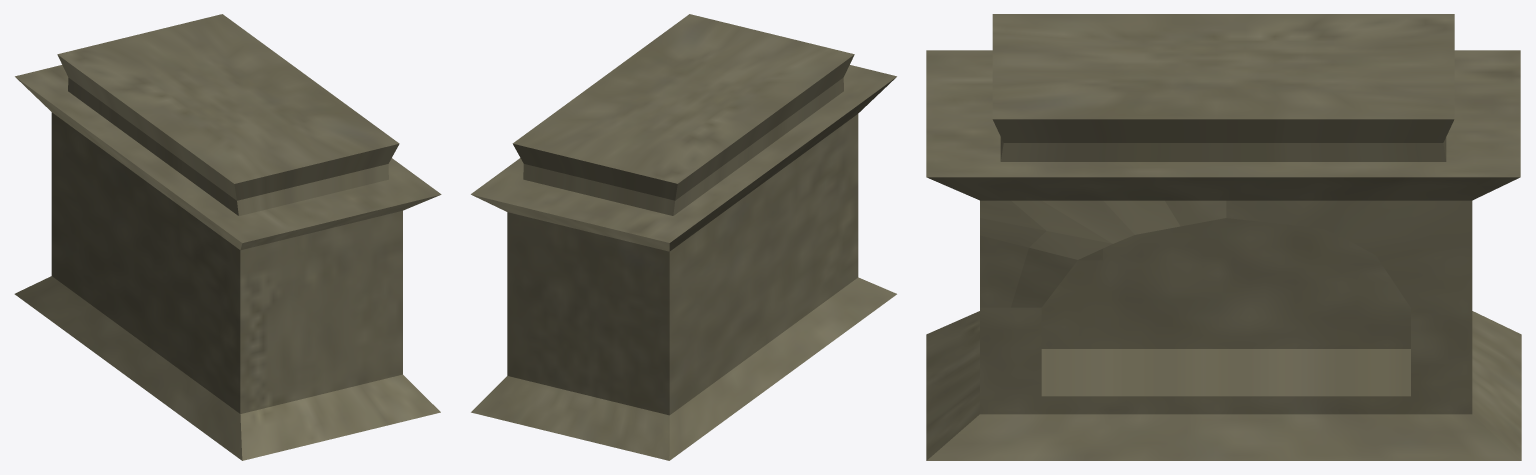
Rendered from Acosta_I_TombstoneWall2.fbx.
3 views of the same model, side by side, from view 1: azimuth 30°, elevation 25°; view 2: azimuth 150°, elevation 25°; view 3: azimuth 270°, elevation 25° (orthographic). The views are drawn at different scales.
Parts seen in each view (by area): view 1: Cube; view 2: Cube; view 3: Cube.
Part boxes in pixels (<box>): Cube: <box>14,14,441,460</box>; Cube: <box>471,14,896,460</box>; Cube: <box>926,14,1521,460</box>.
Bounding box in the file's own units: 604 × 735 × 1196.
